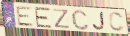C: (70, 9, 90, 32), (108, 11, 126, 33)
E: (16, 6, 36, 27), (34, 7, 53, 29)
J: (92, 12, 106, 32)
Z: (52, 8, 71, 30)
